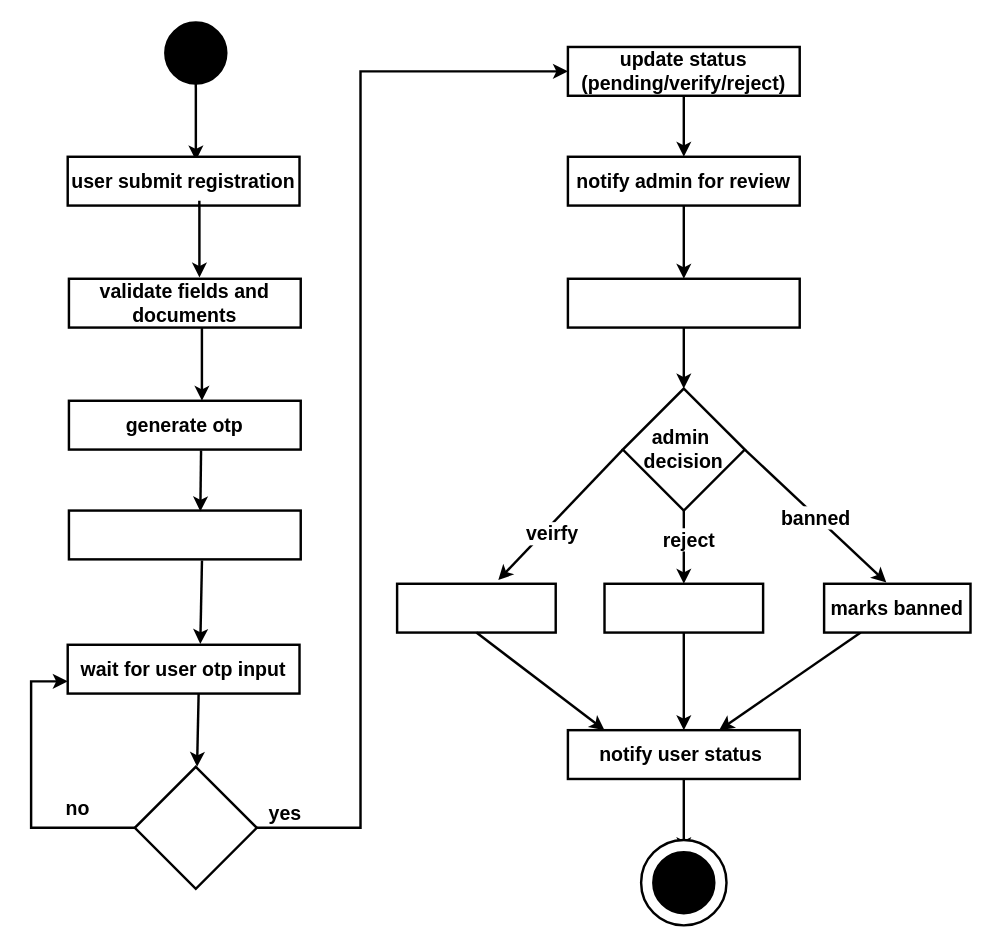
The diagram is 992 pixels wide and 947 high, and some of its shapes have lost their labels. Here are the shapes that lost their labels. From the top down, the centre of each, then its label:
(x=683, y=302): wait for admin decision
(x=184, y=534): send otp via notification
(x=475, y=607): mark verified
(x=683, y=607): mark rejects
(x=195, y=827): otp correct
